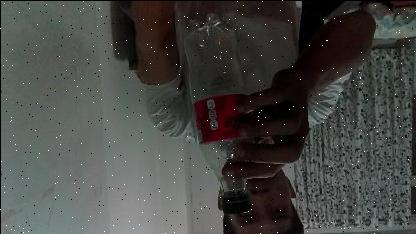Plastic Bottle: (181, 12, 255, 212)
